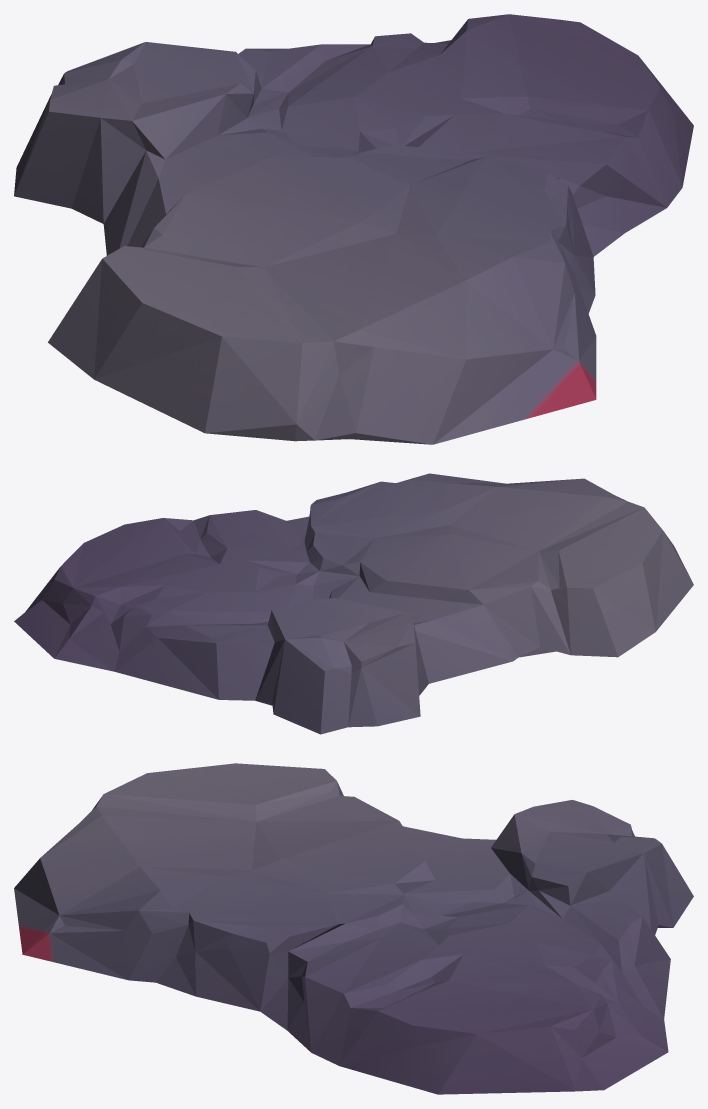
File: rock_flat.004.fbx
3 renders of one model, top to bottom at view 1: azimuth 30°, elevation 25°; view 2: azimuth 150°, elevation 25°; view 3: azimuth 270°, elevation 25°, orthographic. The views are drawn at different scales.
Visible parts, largest first — view 1: rock_flat.004; view 2: rock_flat.004; view 3: rock_flat.004.
Boxes of the visible parts, x1,y1,x2,y2 form: rock_flat.004: [14, 14, 693, 444]; rock_flat.004: [14, 473, 693, 734]; rock_flat.004: [14, 763, 693, 1094].
Size of the model in its own units: 326 by 41.97 by 334.
